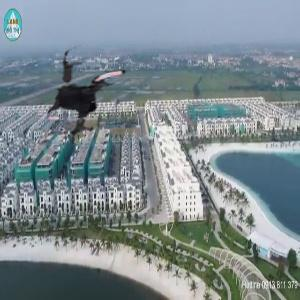drone: (35, 42, 148, 155)
